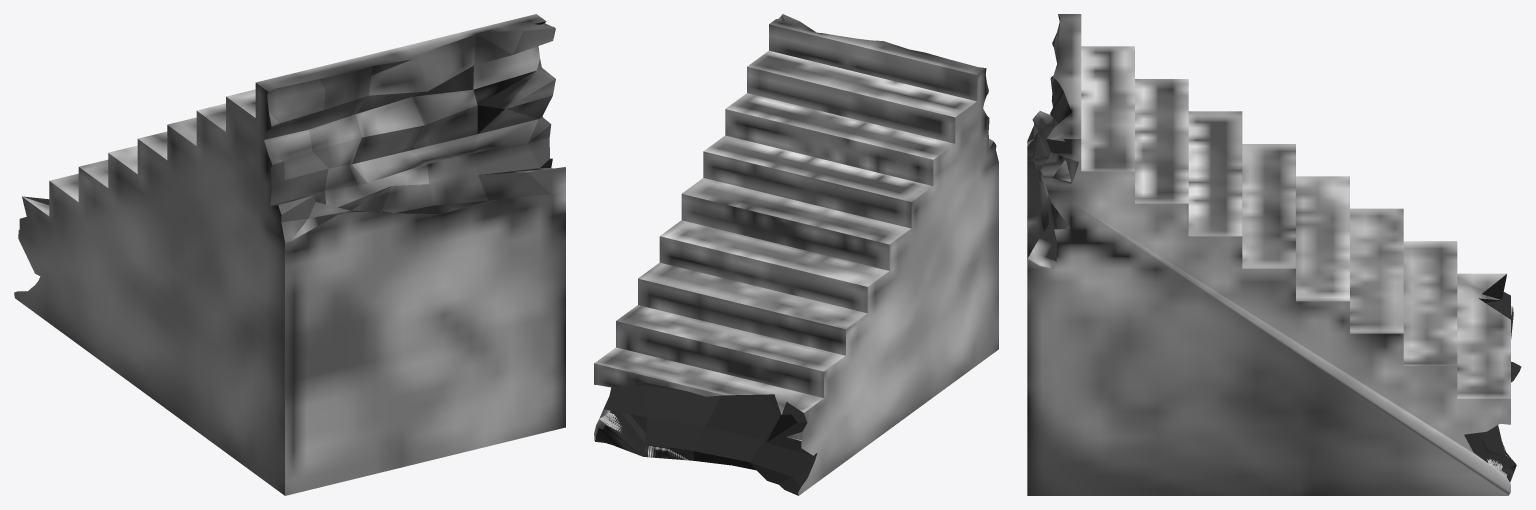
File: merdiven_yeni5.fbx
3 renders of one model, left to right at view 1: azimuth 30°, elevation 25°; view 2: azimuth 150°, elevation 25°; view 3: azimuth 270°, elevation 25°, orthographic. The views are drawn at different scales.
Parts seen in each view (by area): view 1: Stairs_0_35___1_.003; view 2: Stairs_0_35___1_.003; view 3: Stairs_0_35___1_.003.
Part boxes in pixels (x1=…): Stairs_0_35___1_.003: x1=14, y1=14, x2=565, y2=495; Stairs_0_35___1_.003: x1=594, y1=14, x2=998, y2=495; Stairs_0_35___1_.003: x1=1027, y1=14, x2=1521, y2=495.
Size of the model in its own units: 3 by 4 by 5.01.
1 material, 1 textured.
